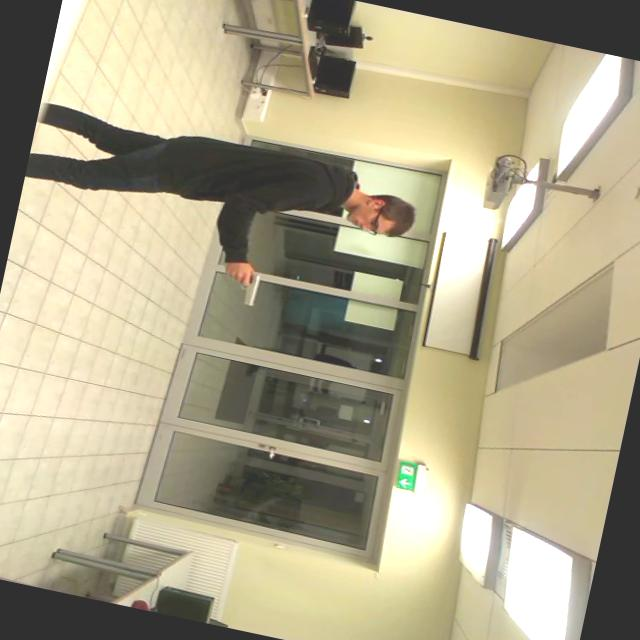handgun: (220, 266, 264, 308)
